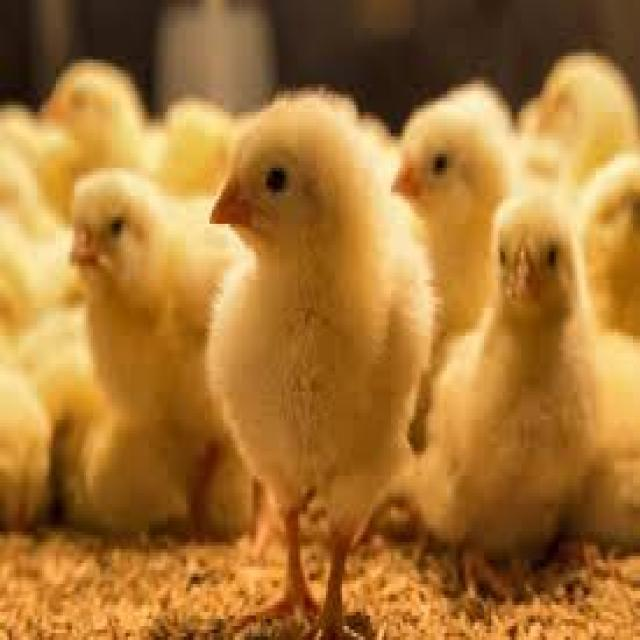Healthy: (193, 81, 452, 633), (435, 197, 621, 610)
